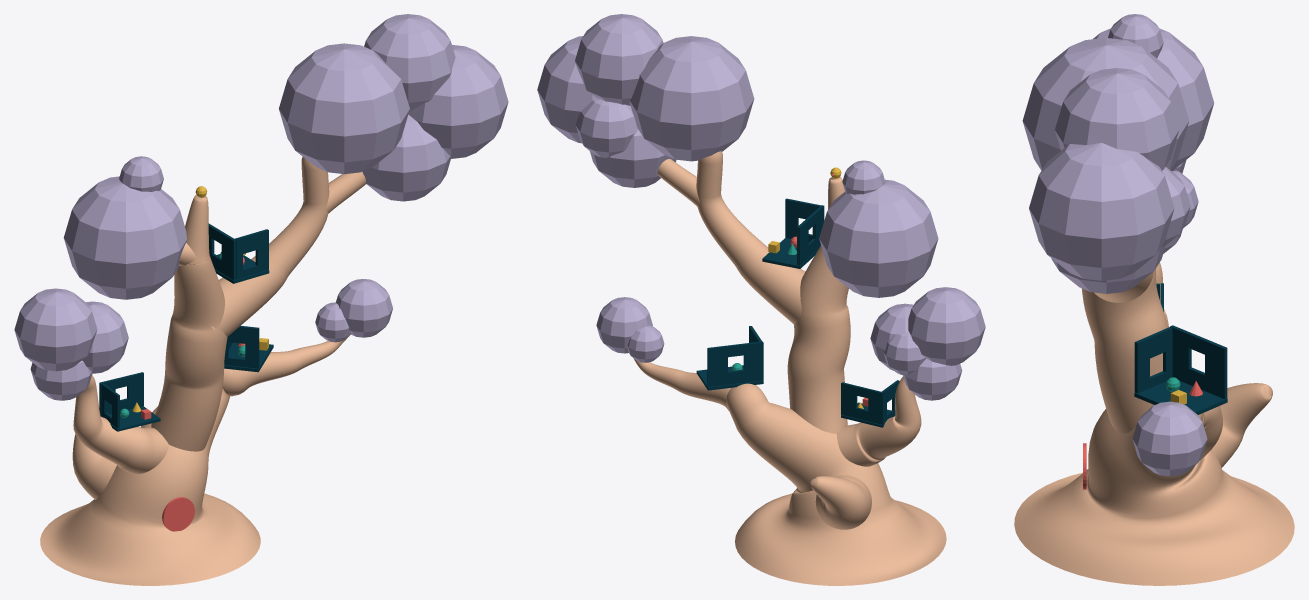
File: treehouse-transformed.glb
3 renders of one model, left to right at view 1: azimuth 30°, elevation 25°; view 2: azimuth 150°, elevation 25°; view 3: azimuth 270°, elevation 25°, orthographic. The views are drawn at different scales.
Visible parts, largest first — view 1: BezierCurve, Sphere.010, Sphere.015, Sphere.008, Sphere.006, Sphere.011, Sphere.009, Sphere.013, Sphere.004, Sphere.005, Sphere.016, Cube.010 (+5 smaller); view 2: BezierCurve, Sphere.010, Sphere.015, Sphere.011, Sphere.006, Sphere.008, Sphere.012, Sphere.009, Cube.004, Sphere.013, Sphere.005, Sphere.004 (+7 smaller); view 3: BezierCurve, Sphere.008, Sphere.011, Sphere.010, Sphere.013, Sphere.015, Cube.004, Cube.006, Sphere.016, Sphere.009, Cube.005, Sphere.012 (+1 smaller).
Boxes of the visible parts, <box> form: BezierCurve: <box>40,157,365,585</box>; Sphere.010: <box>279,43,409,174</box>; Sphere.015: <box>63,176,187,299</box>; Sphere.008: <box>408,45,508,158</box>; Sphere.006: <box>14,288,97,371</box>; Sphere.011: <box>364,14,455,111</box>; Sphere.009: <box>362,115,450,201</box>; Sphere.013: <box>336,279,392,337</box>; Sphere.004: <box>82,301,128,373</box>; Sphere.005: <box>30,361,92,400</box>; Sphere.016: <box>119,156,163,191</box>; Cube.010: <box>235,229,268,279</box>; BezierCurve: <box>633,151,946,585</box>; Sphere.010: <box>629,36,754,161</box>; Sphere.015: <box>819,179,938,297</box>; Sphere.011: <box>575,14,663,105</box>; Sphere.006: <box>908,287,985,365</box>; Sphere.008: <box>537,36,597,143</box>; Sphere.012: <box>575,98,637,157</box>; Sphere.009: <box>590,129,676,187</box>; Cube.004: <box>707,341,763,386</box>; Sphere.013: <box>596,297,652,353</box>; Sphere.005: <box>903,358,962,400</box>; Sphere.004: <box>870,303,913,370</box>; BezierCurve: <box>1014,262,1294,585</box>; Sphere.008: <box>1029,143,1174,280</box>; Sphere.011: <box>1055,68,1178,170</box>; Sphere.010: <box>1022,38,1189,170</box>; Sphere.013: <box>1132,401,1207,476</box>; Sphere.015: <box>1093,28,1214,171</box>; Cube.004: <box>1170,325,1227,399</box>; Cube.006: <box>1134,327,1172,393</box>; Sphere.016: <box>1108,14,1163,58</box>; Sphere.009: <box>1051,245,1165,293</box>; Cube.005: <box>1134,381,1227,414</box>; Sphere.012: <box>1161,166,1190,247</box>.
Size of the model in its own units: 29.7 by 28.9 by 12.14.
